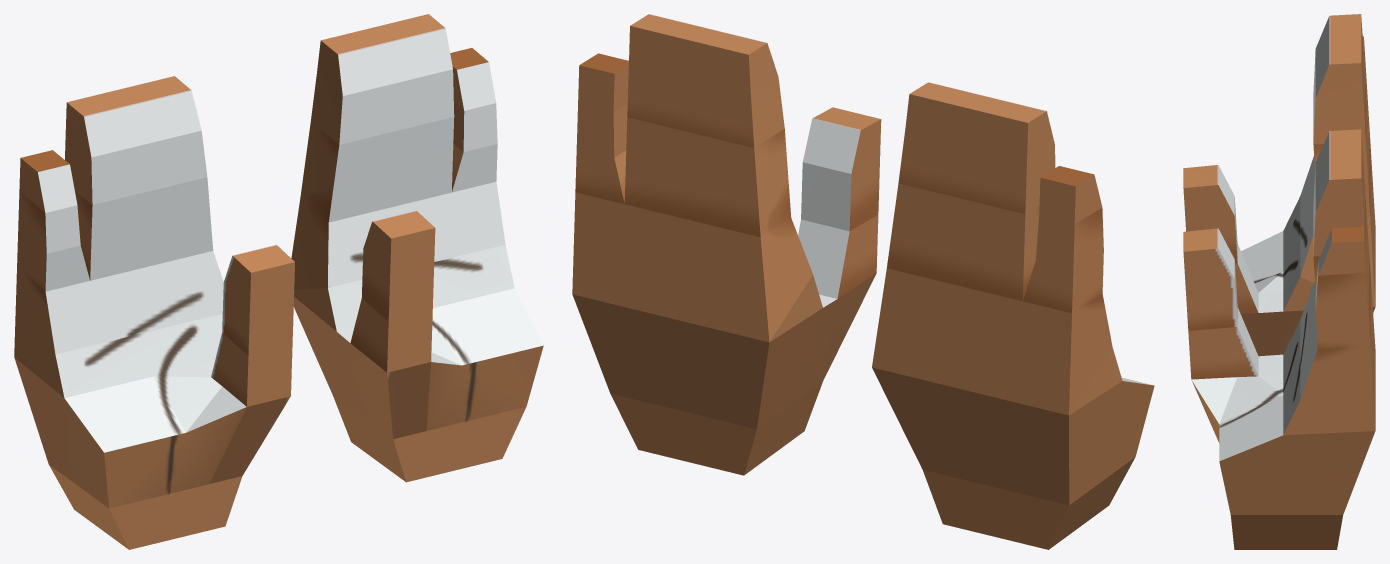
File: Male Mitten Hand.glb
3 views of the same model, side by side, from view 1: azimuth 30°, elevation 25°; view 2: azimuth 150°, elevation 25°; view 3: azimuth 270°, elevation 25° (orthographic). The views are drawn at different scales.
Parts seen in each view (by area): view 1: Male_Right_Hand.001, Male_Left_Hand.001, Male_Left_Hand_Finger.002, Male_Right_Hand_Finger.002, Male_Left_Hand_Finger.001, Male_Right_Hand_Finger.001, Male_Right_Hand_Finger, Male_Left_Hand_Finger, Male_Left_Hand_Thumb, Male_Right_Hand_Thumb, Male_Right_Hand_Pinkry, Male_Right_Hand_Pinkry.001 (+4 smaller); view 2: Male_Left_Hand.001, Male_Right_Hand.001, Male_Left_Hand_Finger, Male_Left_Hand_Finger.002, Male_Right_Hand_Finger.002, Male_Right_Hand_Finger, Male_Left_Hand_Finger.001, Male_Right_Hand_Finger.001, Male_Left_Hand_Thumb, Male_Right_Hand_Pinkry, Male_Right_Hand_Pinkry.001, Male_Left_Hand_Pinkry (+3 smaller); view 3: Male_Left_Hand.001, Male_Right_Hand.001, Male_Right_Hand_Finger.002, Male_Left_Hand_Finger.002, Male_Left_Hand_Pinkry, Male_Left_Hand_Thumb, Male_Left_Hand_Pinkry.001, Male_Right_Hand_Thumb, Male_Left_Hand_Pinkry.002, Male_Right_Hand_Finger, Male_Left_Hand_Finger, Male_Right_Hand_Finger.001 (+2 smaller).
Boxes of the visible parts, x1=… form: Male_Right_Hand.001: x1=14, y1=314, x2=292, y2=549; Male_Left_Hand.001: x1=293, y1=245, x2=543, y2=482; Male_Left_Hand_Finger.002: x1=311, y1=14, x2=454, y2=144; Male_Right_Hand_Finger.002: x1=65, y1=76, x2=207, y2=204; Male_Left_Hand_Finger.001: x1=300, y1=117, x2=454, y2=222; Male_Right_Hand_Finger.001: x1=75, y1=177, x2=213, y2=280; Male_Right_Hand_Finger: x1=90, y1=251, x2=223, y2=343; Male_Left_Hand_Finger: x1=291, y1=192, x2=460, y2=290; Male_Left_Hand_Thumb: x1=362, y1=210, x2=435, y2=321; Male_Right_Hand_Thumb: x1=222, y1=244, x2=294, y2=355; Male_Right_Hand_Pinkry: x1=14, y1=268, x2=99, y2=356; Male_Right_Hand_Pinkry.001: x1=17, y1=191, x2=89, y2=291; Male_Left_Hand.001: x1=572, y1=215, x2=878, y2=475; Male_Right_Hand.001: x1=872, y1=348, x2=1154, y2=549; Male_Left_Hand_Finger: x1=621, y1=204, x2=812, y2=342; Male_Left_Hand_Finger.002: x1=627, y1=14, x2=784, y2=147; Male_Right_Hand_Finger.002: x1=898, y1=82, x2=1055, y2=214; Male_Right_Hand_Finger: x1=872, y1=268, x2=1022, y2=403; Male_Left_Hand_Finger.001: x1=624, y1=117, x2=791, y2=237; Male_Right_Hand_Finger.001: x1=887, y1=183, x2=1039, y2=301; Male_Left_Hand_Thumb: x1=801, y1=107, x2=881, y2=231; Male_Right_Hand_Pinkry: x1=1019, y1=294, x2=1112, y2=415; Male_Right_Hand_Pinkry.001: x1=1023, y1=208, x2=1103, y2=313; Male_Left_Hand_Pinkry: x1=572, y1=192, x2=624, y2=306; Male_Left_Hand.001: x1=1188, y1=307, x2=1375, y2=549; Male_Right_Hand.001: x1=1235, y1=196, x2=1375, y2=356; Male_Right_Hand_Finger.002: x1=1313, y1=14, x2=1365, y2=144; Male_Left_Hand_Finger.002: x1=1313, y1=129, x2=1365, y2=256; Male_Left_Hand_Pinkry: x1=1300, y1=328, x2=1375, y2=430; Male_Left_Hand_Thumb: x1=1183, y1=228, x2=1237, y2=330; Male_Left_Hand_Pinkry.001: x1=1315, y1=258, x2=1370, y2=348; Male_Right_Hand_Thumb: x1=1183, y1=165, x2=1237, y2=263; Male_Left_Hand_Pinkry.002: x1=1318, y1=226, x2=1365, y2=275; Male_Right_Hand_Finger: x1=1300, y1=164, x2=1375, y2=306; Male_Left_Hand_Finger: x1=1300, y1=272, x2=1375, y2=409; Male_Right_Hand_Finger.001: x1=1313, y1=93, x2=1370, y2=217.
Bounding box in the file's own units: 0.3992 × 0.3348 × 0.158.
Materials: 1 (1 with a texture image).
